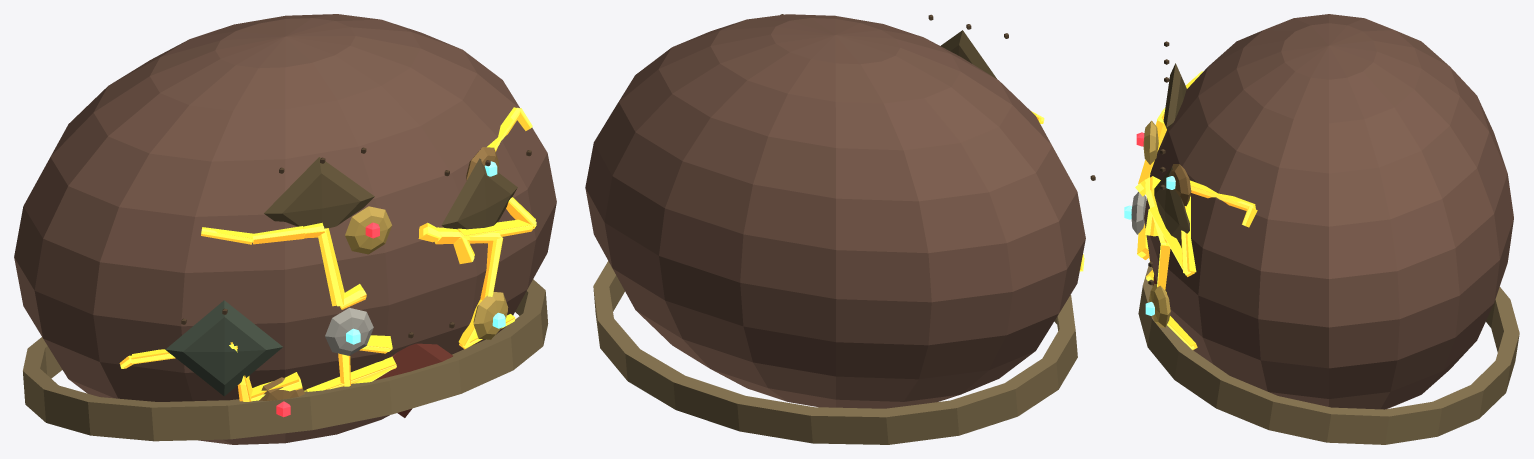
The model's file is hierarch_oszkar_belly.glb.
3 renders of one model, left to right at view 1: azimuth 30°, elevation 25°; view 2: azimuth 150°, elevation 25°; view 3: azimuth 270°, elevation 25°, orthographic. The views are drawn at different scales.
Visible parts, largest first — view 1: hierarch_oszkar_belly; view 2: hierarch_oszkar_belly; view 3: hierarch_oszkar_belly.
Boxes of the visible parts, left/top/right/bottom form: hierarch_oszkar_belly: left=14, top=14, right=556, bottom=444; hierarch_oszkar_belly: left=585, top=14, right=1095, bottom=444; hierarch_oszkar_belly: left=1124, top=14, right=1519, bottom=444.
Bounding box in the file's own units: 0.98 × 0.72 × 0.7482.
